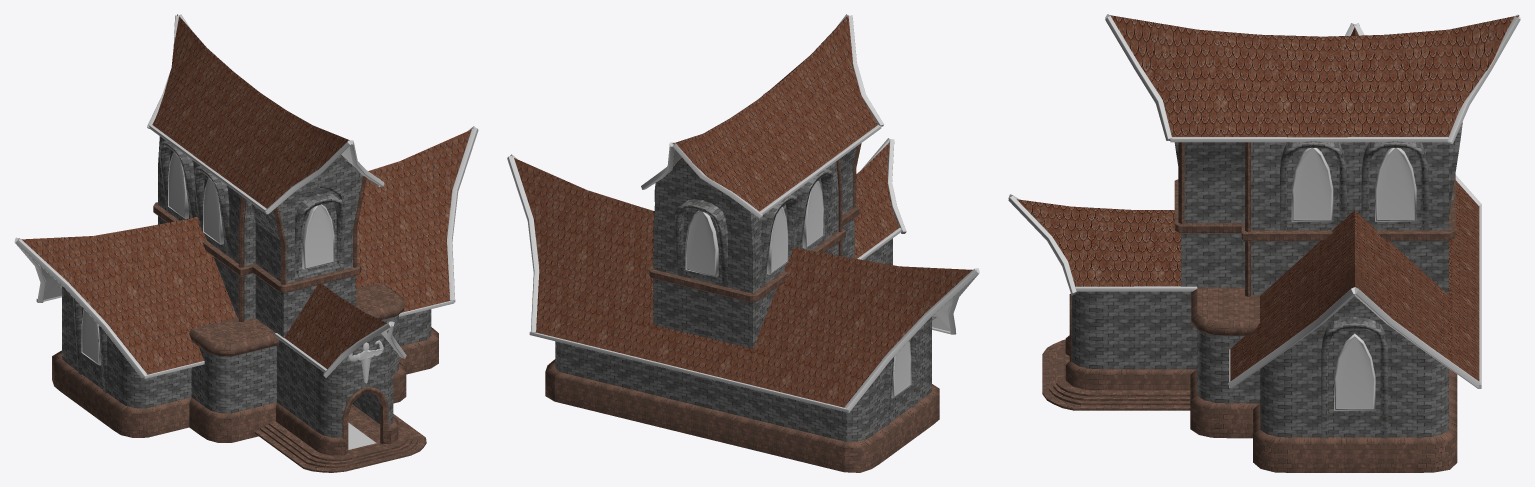
The model's file is Blockout.fbx.
3 renders of one model, left to right at view 1: azimuth 30°, elevation 25°; view 2: azimuth 150°, elevation 25°; view 3: azimuth 270°, elevation 25°, orthographic. The views are drawn at different scales.
Parts seen in each view (by area): view 1: RockWallInt43 (×2), GenHouse_Mod_RoofSlope42 (×2), GenHouse_Mod_RoofSlope9 (×2), GenHouse_Mod_RoofSlope45 (×2), polySurface20, GenHouse_Mod_RoofSlope43 (×2), pPlane2 (×2), GenHouse_Mod_RoofSlope44 (×2), GenHouse_Mod_RoofSlope1, GenHouse_Mod_RoofSlope2, GenHouse_Mod_RoofSlope4, GenHouse_Mod_RoofSlope3 (+41 smaller); view 2: RockWallInt43 (×2), GenHouse_Mod_RoofSlope35 (×2), GenHouse_Mod_RoofSlope56 (×2), GenHouse_Mod_RoofSlope12 (×2), GenHouse_Mod_RoofSlope10 (×2), GenHouse_Mod_RoofSlope11 (×2), RockWallInt23 (×2), GenHouse_Mod_RoofSlope57 (×2), GenHouse_Mod_RoofSlope4, GenHouse_Mod_RoofSlope3, RockWallInt24 (×2), GenHouse_Mod_RoofSlope2 (+31 smaller); view 3: RockWallInt43, GenHouse_Mod_RoofSlope4, GenHouse_Mod_RoofSlope1, GenHouse_Mod_RoofSlope3, GenHouse_Mod_RoofSlope2, GenHouse_Mod_RoofSlope5, GenHouse_Mod_RoofSlope8, RockWallInt4, RockWallInt12, RockWallInt15, pPlane2 (×2), GenHouse_Mod_RoofSlope37 (+52 smaller).
Part boxes in pixels (<box>): RockWallInt43 (×2): <box>52,327,438,455</box>; GenHouse_Mod_RoofSlope42 (×2): <box>21,129,471,367</box>; GenHouse_Mod_RoofSlope9 (×2): <box>93,161,425,308</box>; GenHouse_Mod_RoofSlope45 (×2): <box>120,234,450,374</box>; polySurface20: <box>191,345,276,413</box>; GenHouse_Mod_RoofSlope43 (×2): <box>139,199,380,297</box>; pPlane2 (×2): <box>254,404,426,472</box>; GenHouse_Mod_RoofSlope44 (×2): <box>165,245,406,363</box>; GenHouse_Mod_RoofSlope1: <box>152,48,232,143</box>; GenHouse_Mod_RoofSlope2: <box>179,72,259,163</box>; GenHouse_Mod_RoofSlope4: <box>231,110,312,201</box>; GenHouse_Mod_RoofSlope3: <box>205,92,285,182</box>; RockWallInt43 (×2): <box>545,359,939,472</box>; GenHouse_Mod_RoofSlope35 (×2): <box>514,158,976,400</box>; GenHouse_Mod_RoofSlope56 (×2): <box>560,190,899,340</box>; GenHouse_Mod_RoofSlope12 (×2): <box>581,276,825,396</box>; GenHouse_Mod_RoofSlope10 (×2): <box>535,265,872,407</box>; GenHouse_Mod_RoofSlope11 (×2): <box>607,205,852,329</box>; RockWallInt23 (×2): <box>653,278,752,348</box>; GenHouse_Mod_RoofSlope57 (×2): <box>640,325,752,382</box>; GenHouse_Mod_RoofSlope4: <box>784,55,866,152</box>; GenHouse_Mod_RoofSlope3: <box>757,79,839,172</box>; RockWallInt24 (×2): <box>653,180,752,251</box>; GenHouse_Mod_RoofSlope2: <box>730,100,812,191</box>; RockWallInt43: <box>1065,361,1457,472</box>; GenHouse_Mod_RoofSlope4: <box>1197,30,1260,136</box>; GenHouse_Mod_RoofSlope1: <box>1386,30,1448,136</box>; GenHouse_Mod_RoofSlope3: <box>1260,35,1322,137</box>; GenHouse_Mod_RoofSlope2: <box>1323,35,1385,137</box>; GenHouse_Mod_RoofSlope5: <box>1110,15,1197,140</box>; GenHouse_Mod_RoofSlope8: <box>1071,206,1134,286</box>; RockWallInt4: <box>1071,291,1134,369</box>; RockWallInt12: <box>1260,355,1321,437</box>; RockWallInt15: <box>1388,355,1448,437</box>; pPlane2 (×2): <box>1042,339,1190,410</box>; GenHouse_Mod_RoofSlope37: <box>1449,15,1519,135</box>.
Size of the model in its own units: 53.26 by 33.76 by 42.95.
